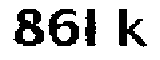6: (46, 6, 80, 50)
8: (12, 7, 44, 50)
k: (117, 6, 149, 54)
l: (83, 3, 105, 52)
